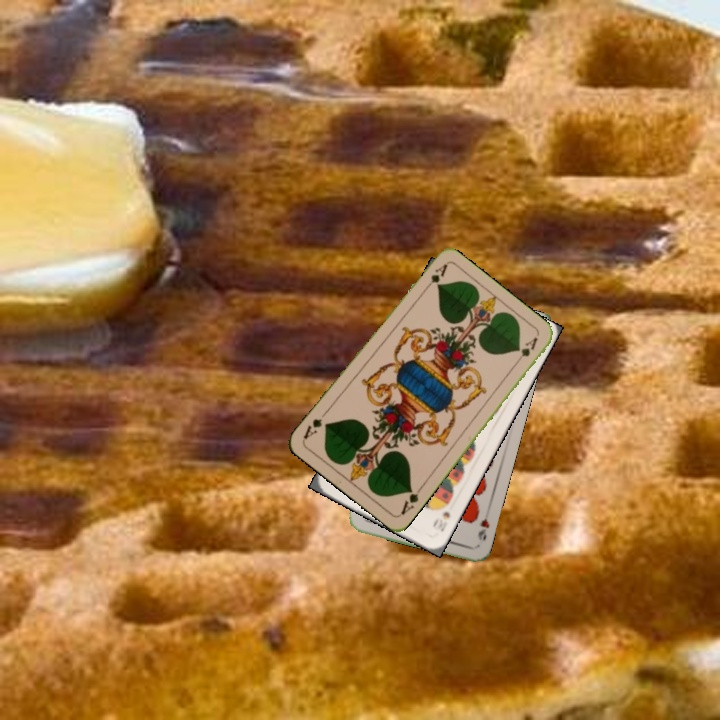GA: (419, 260, 450, 295), (396, 482, 425, 518)
H9: (474, 514, 492, 543)
S10: (429, 507, 453, 534)
